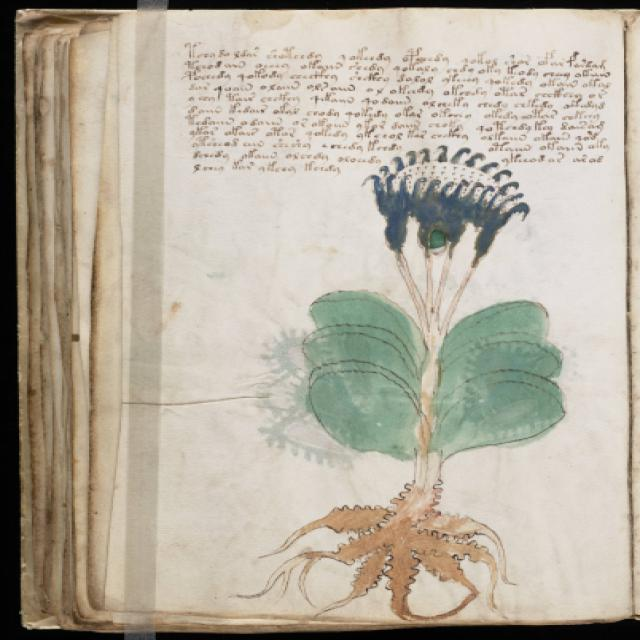plant: (219, 143, 574, 625)
